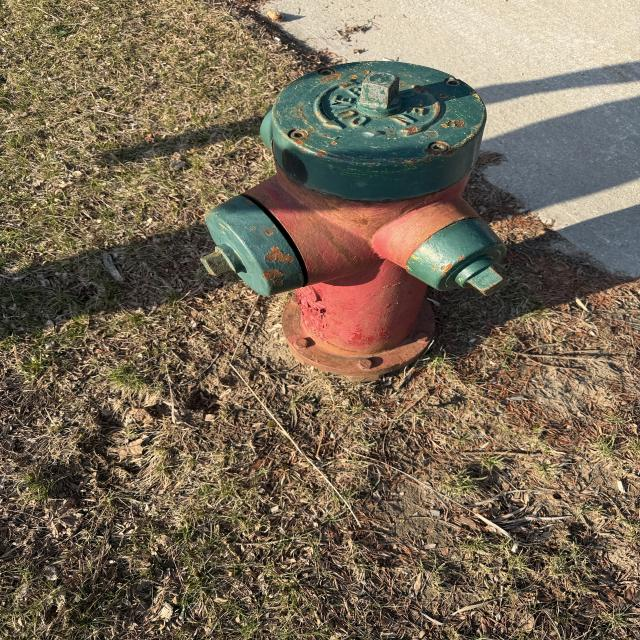Fire hydrant: (198, 61, 511, 382)
